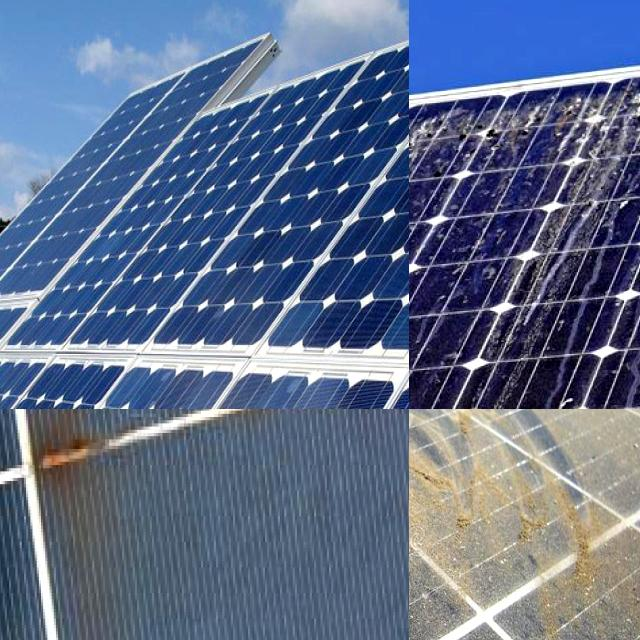bird: (452, 114, 544, 166), (589, 98, 640, 155), (409, 126, 452, 184)
crack: (130, 13, 409, 409), (0, 38, 268, 339)
dust: (506, 457, 640, 640), (409, 470, 486, 640), (409, 481, 487, 640), (409, 409, 526, 498), (409, 409, 526, 488), (409, 409, 492, 520), (515, 409, 622, 495)
shadow: (25, 409, 255, 503)
